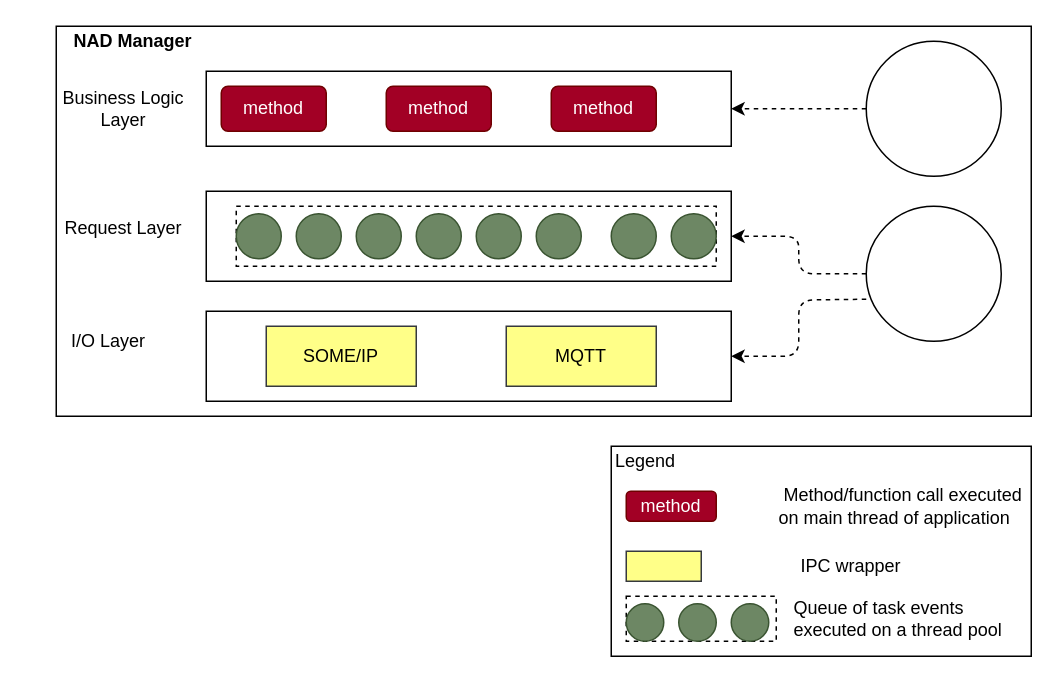
This 1058x683 diagram has some shape labels left out. Here are the shapes that lost their labels. From the top down, the centre of each, then its label:
(x=933, y=108): Synchronous Service Layers
(x=933, y=273): Asynchronous Service Layers
